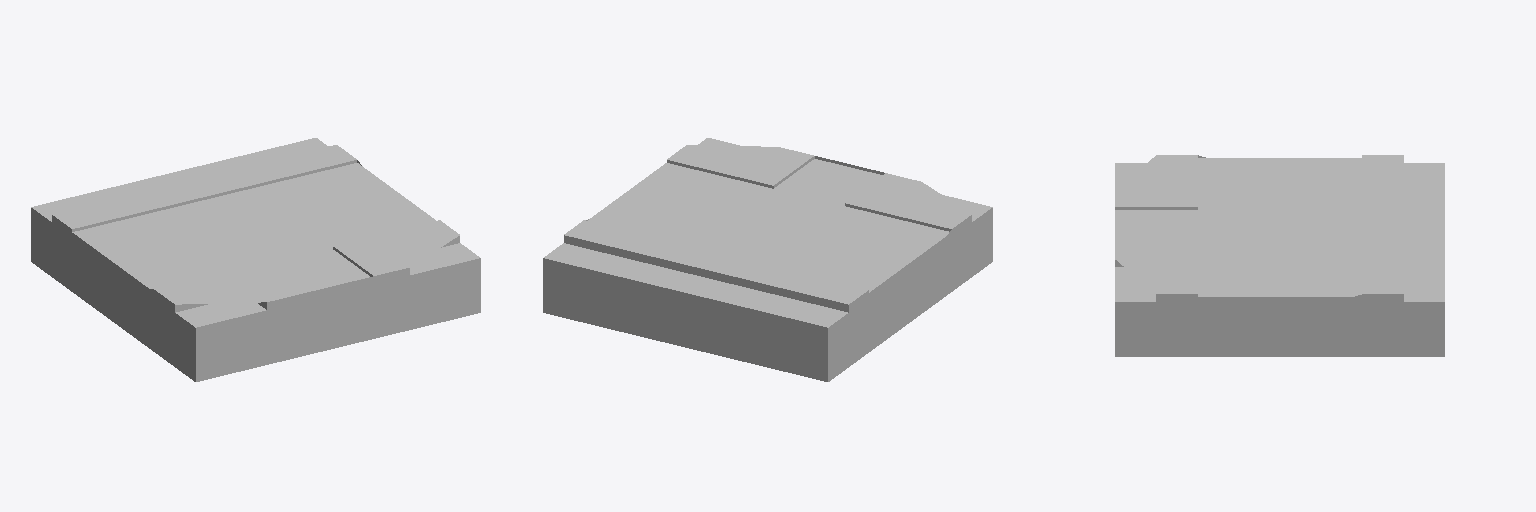
Rendered from roadTile_032.obj.
The picture shows the model from 3 angles: view 1: azimuth 30°, elevation 25°; view 2: azimuth 150°, elevation 25°; view 3: azimuth 270°, elevation 25°; orthographic projection.
Visible parts, largest first — view 1: Mesh1 Group1 Model; view 2: Mesh1 Group1 Model; view 3: Mesh1 Group1 Model.
Boxes of the visible parts, box(x1,y1,x2,y2) form: Mesh1 Group1 Model: box(31, 138, 480, 381); Mesh1 Group1 Model: box(543, 138, 992, 381); Mesh1 Group1 Model: box(1115, 155, 1444, 356).
Bounding box in the file's own units: 3 × 0.63 × 3.